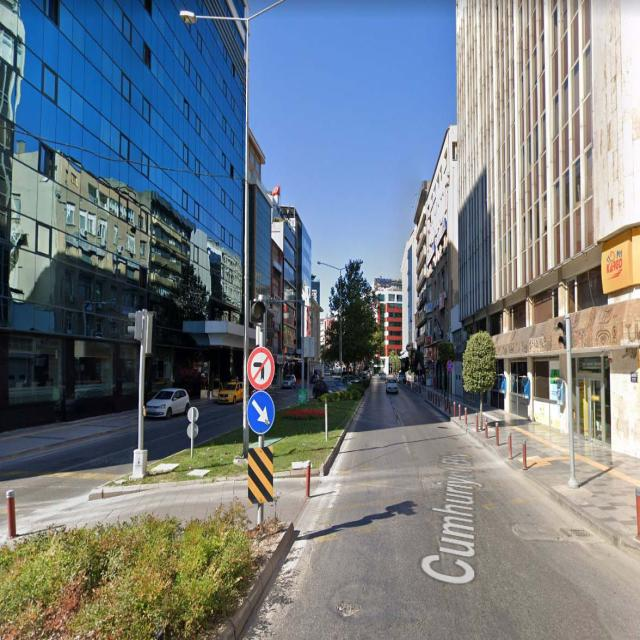soladonulmez: (247, 348, 273, 388)
